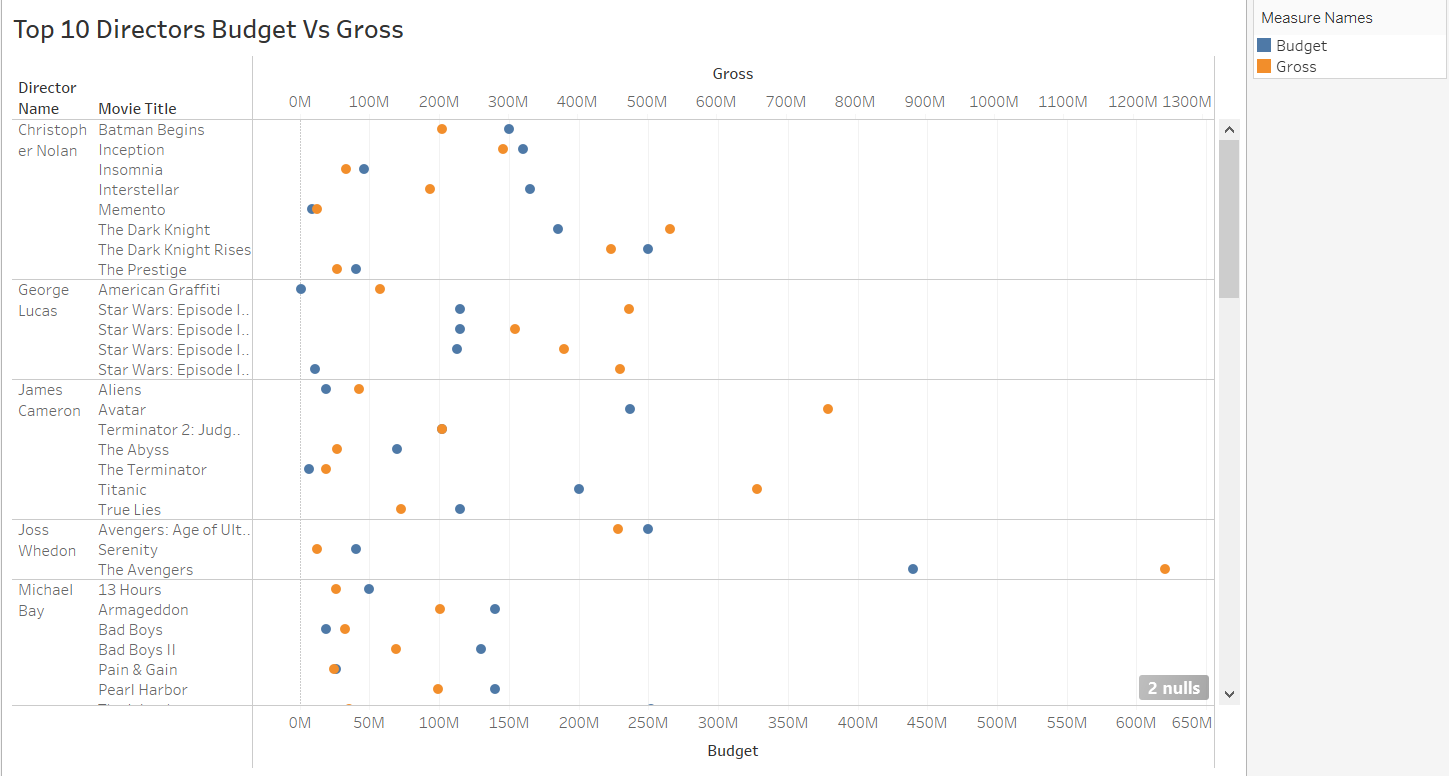

What the dashboard file says about the page in this screenshot:
{"tool":"tableau","page":{"name":"Dashboard 3","canvas":[1000,800],"ordinal":2},"visuals":[{"type":"worksheet","title":"Sheet 5","mark":"Circle","box":[0,0,840,800]},{"type":"legend","title":"Sheet 5","param":"[federated.1e160na0utb0gz1e4g3et1r87qo7].[none:content_rating:nk]","box":[840,0,160,433]}]}

Visuals, with their boxes on the page's 1000x800 design canvas (x1, y1, x2, y2). These are canvas units, not pixel positions in the 1449x776 screenshot, which may show the page scaled, cropped or inside an application window:
"Sheet 5" worksheet (Circle marks): [left=0, top=0, right=840, bottom=800]
"Sheet 5" legend: [left=840, top=0, right=1000, bottom=433]
